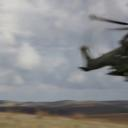helicopter: (80, 15, 128, 81)
